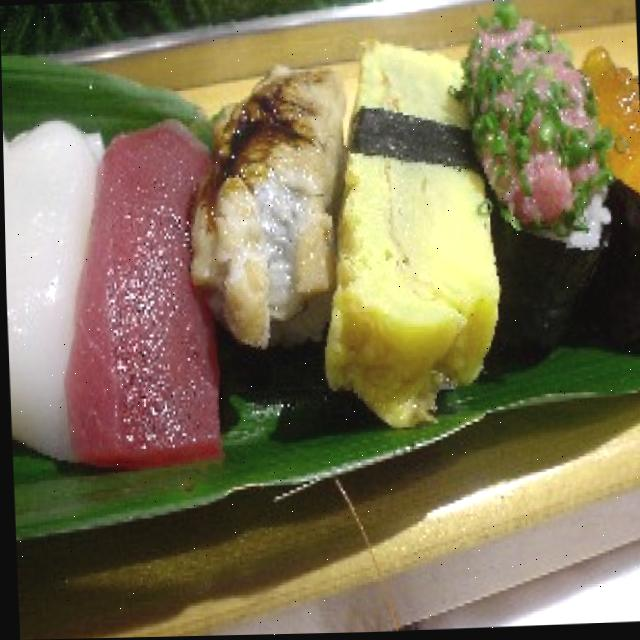寿司卷物: (0, 6, 640, 551)
